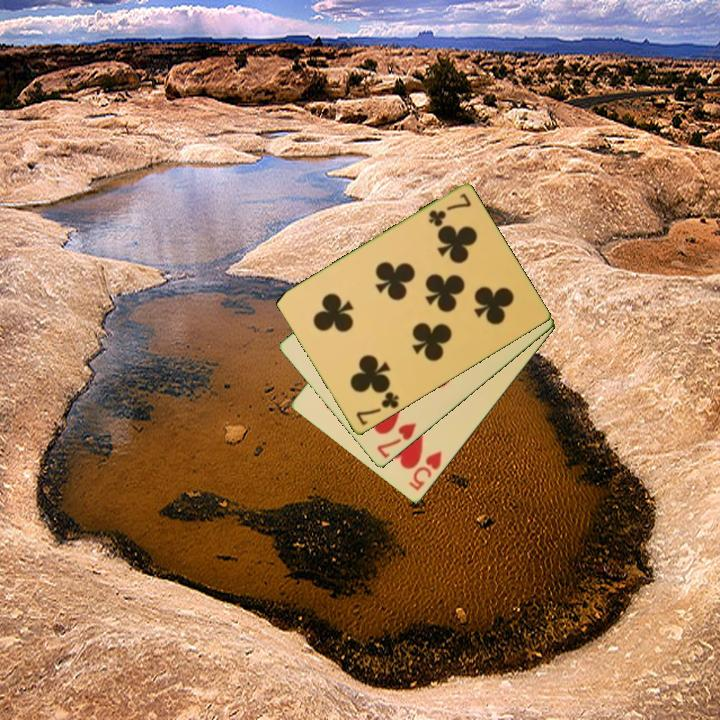5h: (405, 448, 445, 494)
7c: (352, 388, 402, 429), (425, 190, 474, 230)
7h: (373, 419, 419, 462)
